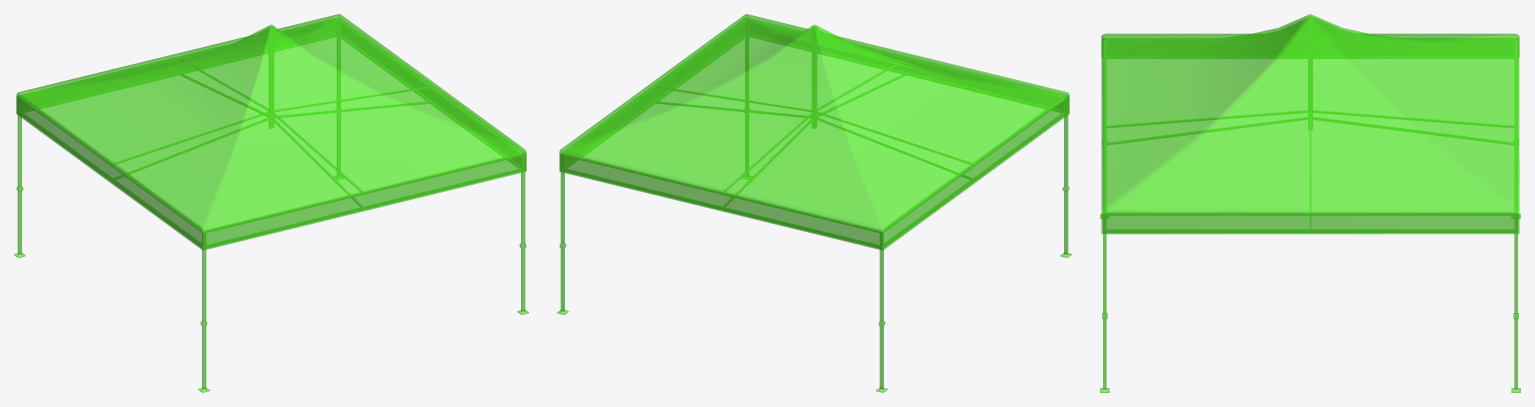
File: track_01_collider.glb
3 views of the same model, side by side, from view 1: azimuth 30°, elevation 25°; view 2: azimuth 150°, elevation 25°; view 3: azimuth 270°, elevation 25° (orthographic). The views are drawn at different scales.
Visible parts, largest first — view 1: Blue Tent A.002; view 2: Blue Tent A.002; view 3: Blue Tent A.002.
Boxes of the visible parts, x1,y1,x2,y2 form: Blue Tent A.002: (14, 14, 528, 392); Blue Tent A.002: (557, 14, 1071, 392); Blue Tent A.002: (1100, 14, 1520, 392).
Bounding box in the file's own units: 14.75 × 11.19 × 14.75.
